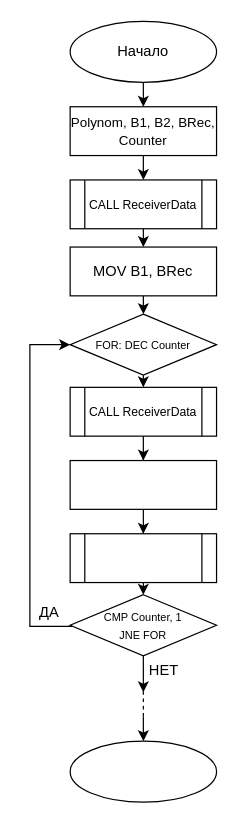
The diagram is 238 pixels wide and 824 high, and some of its shapes have lost their labels. The box of each missing label's shape, as (x1, y1, x2, y2) in pixels:
CALL CRC: (69, 533, 217, 583)
MOV B2, BRec: (69, 459, 217, 509)
Конец: (69, 740, 217, 802)
